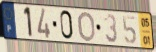0: (59, 10, 75, 42)
1: (23, 7, 34, 40)
3: (102, 13, 118, 45)
4: (36, 7, 52, 41)
5: (121, 15, 137, 46)
O: (77, 11, 96, 43)
